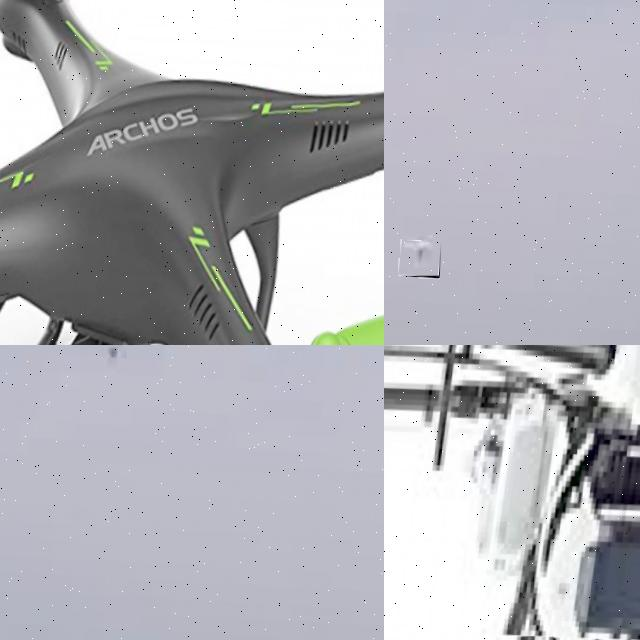0: (398, 240, 442, 279)
drone: (0, 0, 384, 345), (384, 345, 640, 640)
